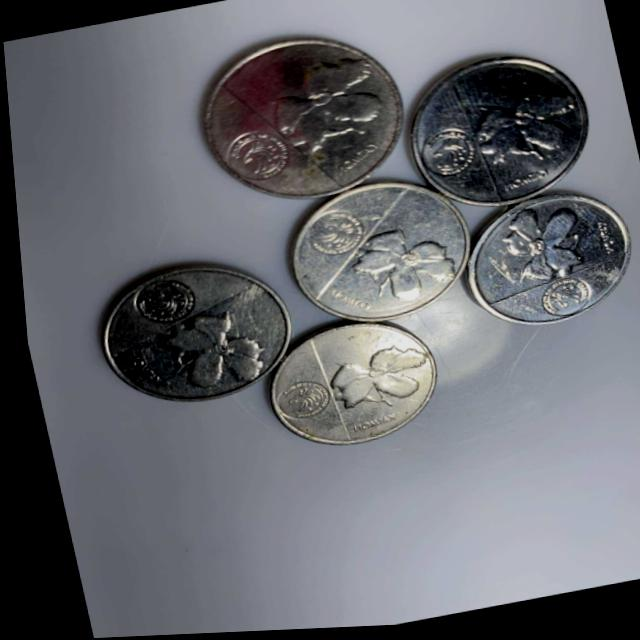25Cent_New_Back: (239, 56, 397, 179), (455, 80, 589, 195), (472, 198, 605, 313), (134, 302, 278, 405), (301, 337, 439, 427), (344, 220, 464, 318)
